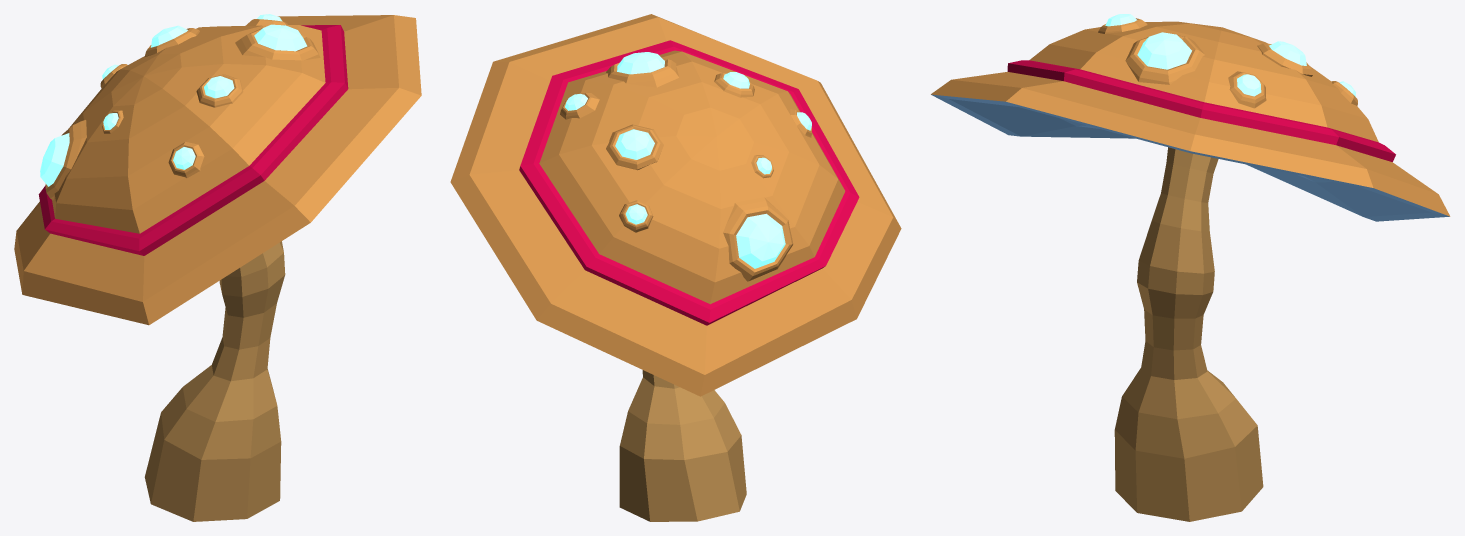
Rendered from Mushroom_03_Var_01.fbx.
The picture shows the model from 3 angles, left to right: view 1: azimuth 30°, elevation 25°; view 2: azimuth 150°, elevation 25°; view 3: azimuth 270°, elevation 25°; orthographic projection. The views are drawn at different scales.
Visible parts, largest first — view 1: Mushroom_03_Var_01; view 2: Mushroom_03_Var_01; view 3: Mushroom_03_Var_01.
Part boxes in pixels (left/top/right/bottom): Mushroom_03_Var_01: left=14, top=14, right=421, bottom=521; Mushroom_03_Var_01: left=450, top=14, right=901, bottom=521; Mushroom_03_Var_01: left=931, top=14, right=1450, bottom=521.
Size of the model in its own units: 0.3732 by 0.3804 by 0.3405.
